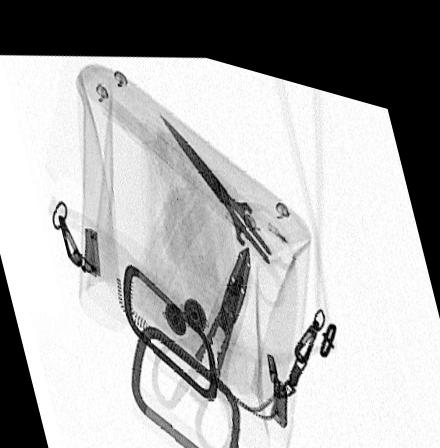Scissors: (157, 103, 299, 296), (146, 235, 252, 448)
